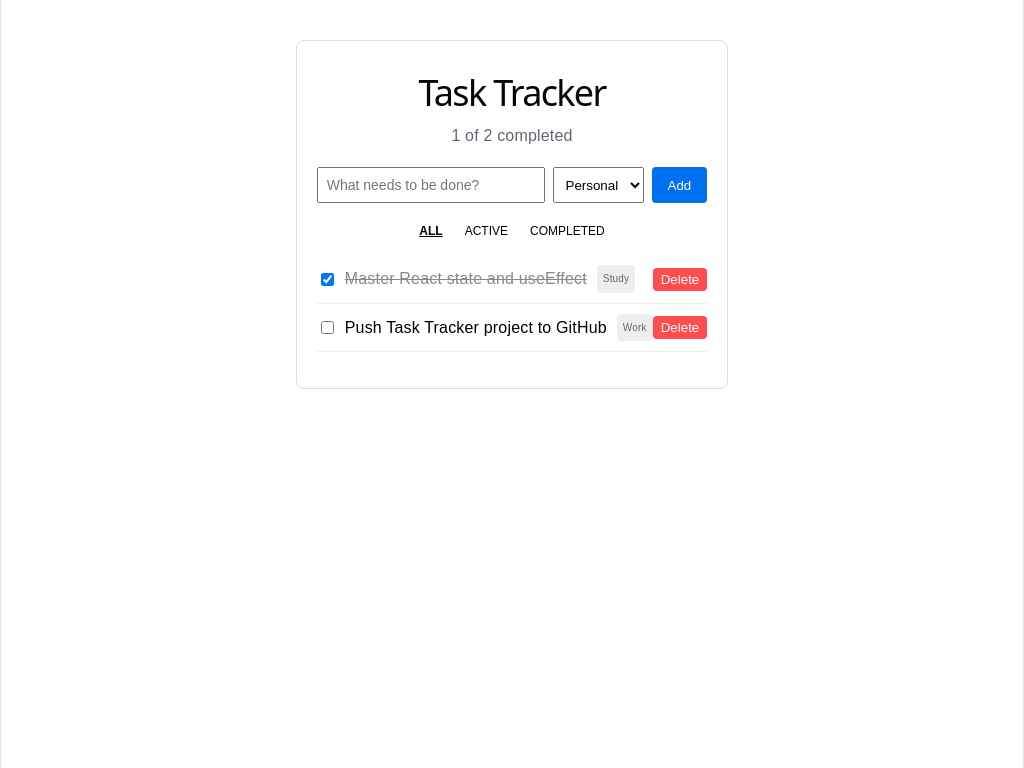
Test case: Task Tracker App › allows user to add a new task
Type a new task and click submit
Type "Write Vitest Unit Tests" into the field with placeholder "What needs to be done?" at (431, 185), box [317,167,544,203]
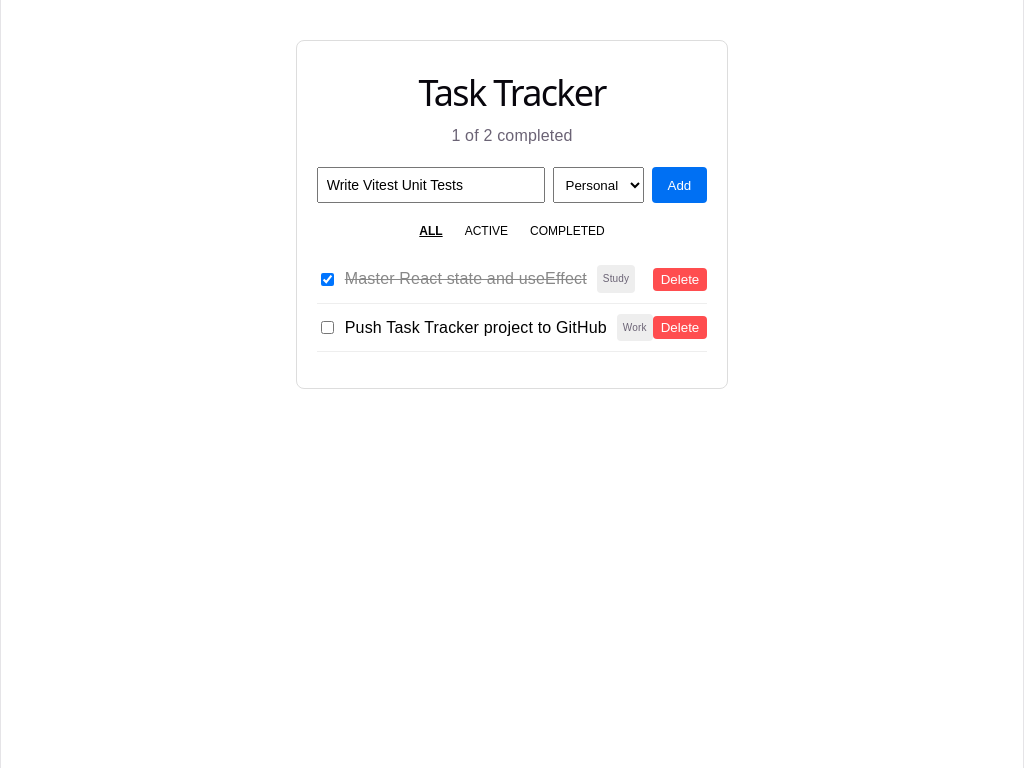
Click the button "Add" at (679, 185), box [652,167,707,203]
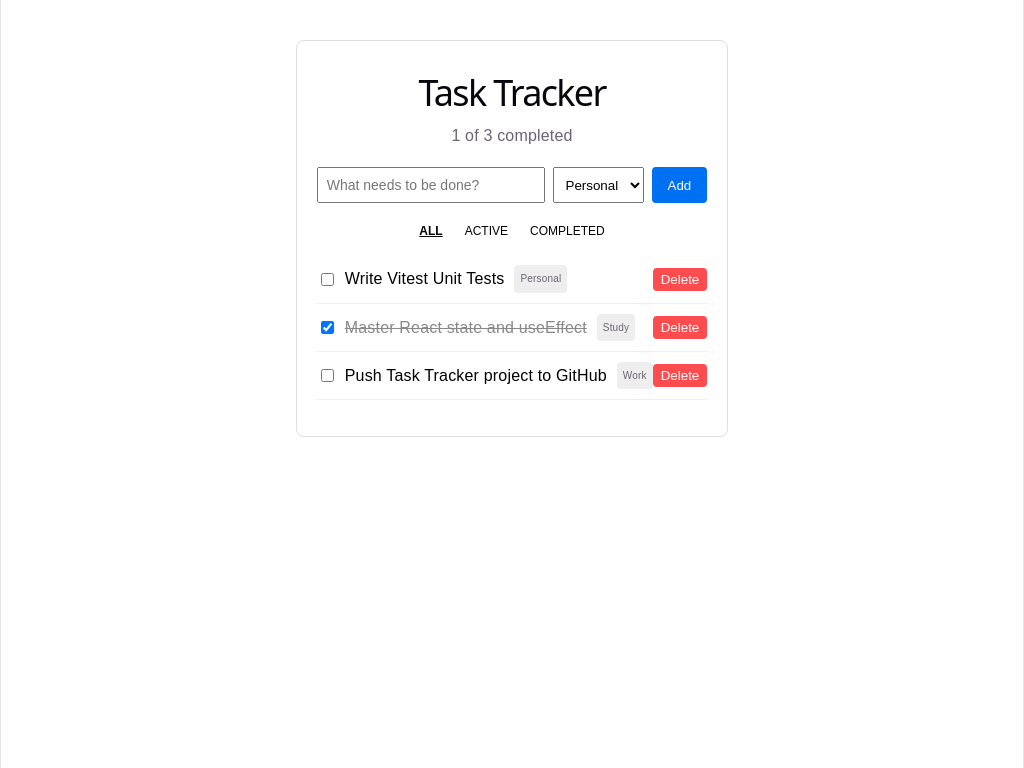
Expected: the text "Write Vitest Unit Tests" is shown, [345,267,504,291]
Expected: the field with placeholder "What needs to be done?" is empty, [317,167,544,203]
Expected: the text "1 of 3 completed" is shown, [451,127,573,144]
